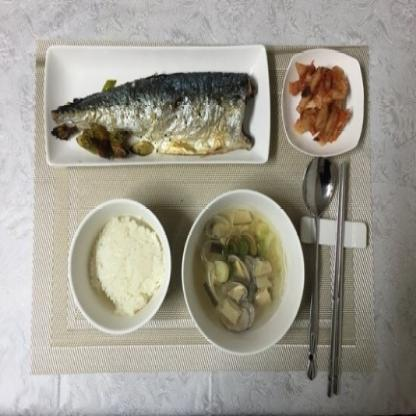Peixe: (42, 62, 264, 169)
